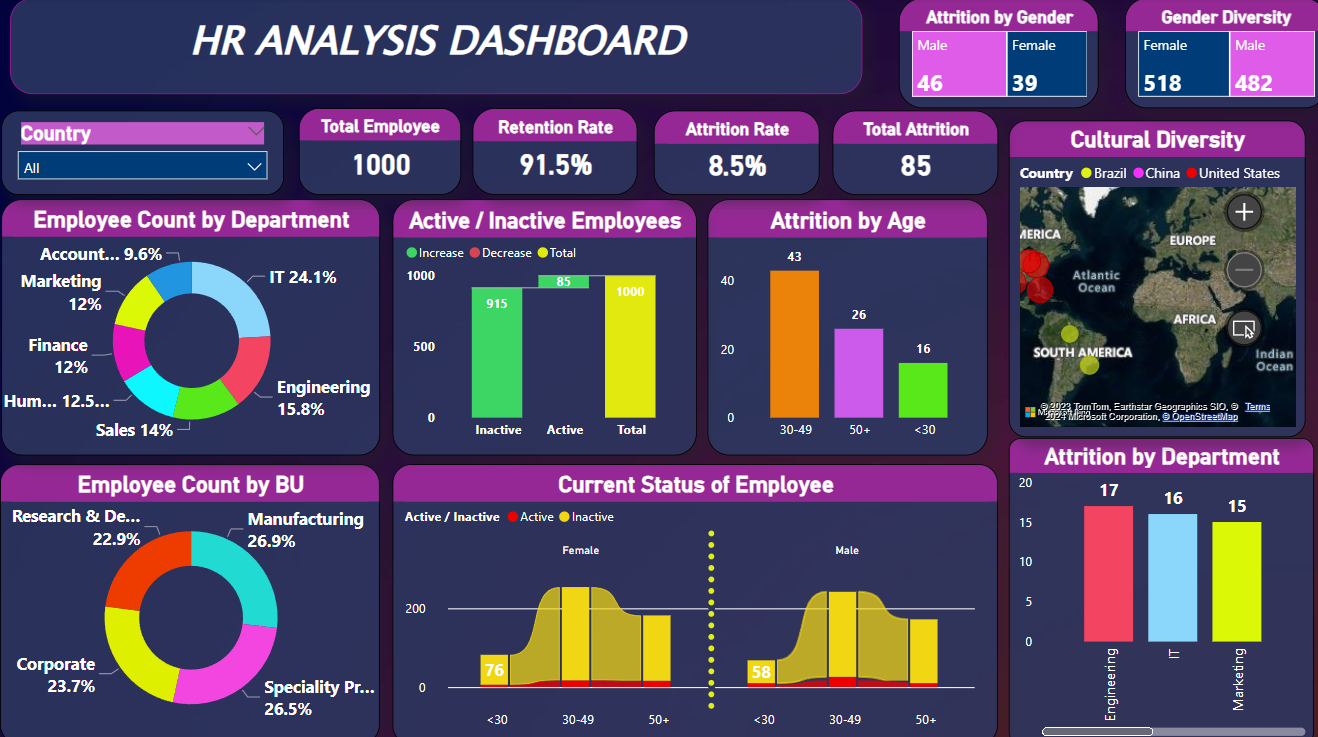

The dashboard page shown, as its layout file describes it:
{"tool":"powerbi","page":{"name":"Page 1","canvas":[1280,720],"ordinal":0},"visuals":[{"type":"textbox","box":[9.8,0,822.7,92.9],"z":0},{"type":"donutChart","title":" Employee Count by BU ","fields":{"Y":["Sum(EMPData.Employee Count)"],"Category":["EMPData.BU Desc"]},"box":[0,449.8,366.7,270.2],"z":1000},{"type":"donutChart","title":"Employee Count by Department","fields":{"Y":["Sum(EMPData.Employee Count)"],"Category":["EMPData.Department"]},"box":[1.2,194.4,365.5,246.9],"z":2000},{"type":"columnChart","title":" Attrition by Age","fields":{"Y":["Sum(EMPData.Attrition Count)"],"Category":["EMPData.Age Group.Age Group"]},"box":[682.1,194.4,270.2,246.9],"z":3000},{"type":"columnChart","title":" Attrition by Department","fields":{"Y":["Sum(EMPData.Attrition Count)"],"Category":["EMPData.Department"]},"box":[973,424.2,294.6,295.8],"z":4000},{"type":"waterfallChart","title":"Active / Inactive Employees","fields":{"Category":["EMPData.Active / Inactive"],"Y":["Sum(EMPData.Employee Count)"]},"box":[378.9,194.4,293.4,246.9],"z":5000},{"type":"map","title":"Cultural Diversity","fields":{"Category":["EMPData.City"],"Size":["Sum(EMPData.Employee Count)"],"Series":["EMPData.Country"]},"box":[973,118.6,286,305.6],"z":6000},{"type":"ribbonChart","title":"Current Status of Employee ","fields":{"Category":["EMPData.Age Group.Age Group"],"Rows":["EMPData.Gender"],"Y":["Sum(EMPData.Employee Count)"],"Series":["EMPData.Active / Inactive"]},"box":[378.9,449.8,584.3,270.2],"z":7000},{"type":"treemap","title":"Gender Diversity","fields":{"Values":["Sum(EMPData.Employee Count)"],"Group":["EMPData.Gender"]},"box":[1085.5,0,194.4,106.3],"z":8000},{"type":"treemap","title":"Attrition by Gender ","fields":{"Group":["EMPData.Gender"],"Values":["Sum(EMPData.Attrition Count)"]},"box":[866.7,0,193.1,106.3],"z":9000},{"type":"slicer","fields":{"Values":["EMPData.Country"]},"box":[1.2,108.8,272.6,81.9],"z":10000},{"type":"card","title":"Total Employee","fields":{"Values":["Sum(EMPData.Employee Count)"]},"box":[288.5,106.3,156.5,84.3],"z":11000},{"type":"card","title":"Retention Rate","fields":{"Values":["EMPData.Retention %"]},"box":[456,106.3,158.9,84.3],"z":12000},{"type":"card","title":"Attrition Rate","fields":{"Values":["EMPData.Attrition %"]},"box":[630.8,108.8,160.1,81.9],"z":13000},{"type":"card","title":"Total Attrition","fields":{"Values":["Sum(EMPData.Attrition Count)"]},"box":[803.1,108.8,160.1,81.9],"z":14000}]}

Visuals, with their boxes in screenshot pixels (x1, y1, x2, y2), scaled from the page's 1280x720 canvas onto the 1318x737 screenshot:
textbox: locate(10, 0, 857, 95)
" Employee Count by BU " donutChart: locate(0, 460, 378, 736)
"Employee Count by Department" donutChart: locate(1, 199, 378, 452)
" Attrition by Age" columnChart: locate(702, 199, 981, 452)
" Attrition by Department" columnChart: locate(1002, 434, 1305, 736)
"Active / Inactive Employees" waterfallChart: locate(390, 199, 692, 452)
"Cultural Diversity" map: locate(1002, 121, 1296, 434)
"Current Status of Employee " ribbonChart: locate(390, 460, 992, 736)
"Gender Diversity" treemap: locate(1118, 0, 1317, 109)
"Attrition by Gender " treemap: locate(892, 0, 1091, 109)
slicer - EMPData.Country: locate(1, 111, 282, 195)
"Total Employee" card: locate(297, 109, 458, 195)
"Retention Rate" card: locate(470, 109, 633, 195)
"Attrition Rate" card: locate(650, 111, 814, 195)
"Total Attrition" card: locate(827, 111, 992, 195)
